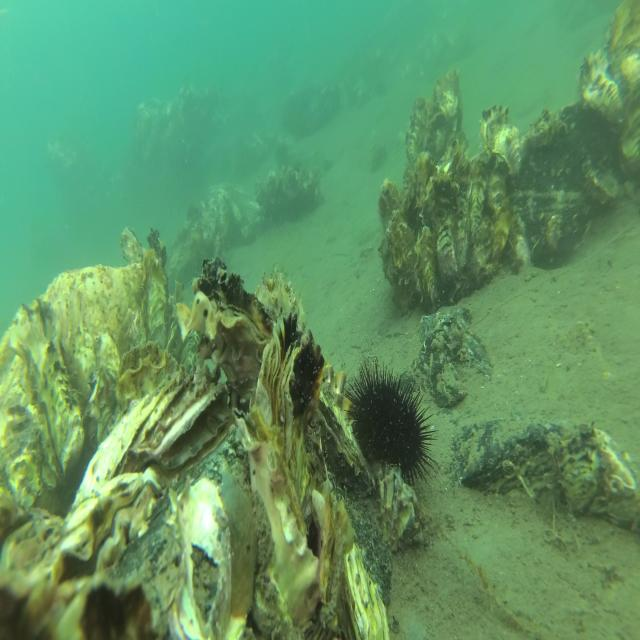echinus: (342, 359, 440, 489), (274, 138, 290, 168)
